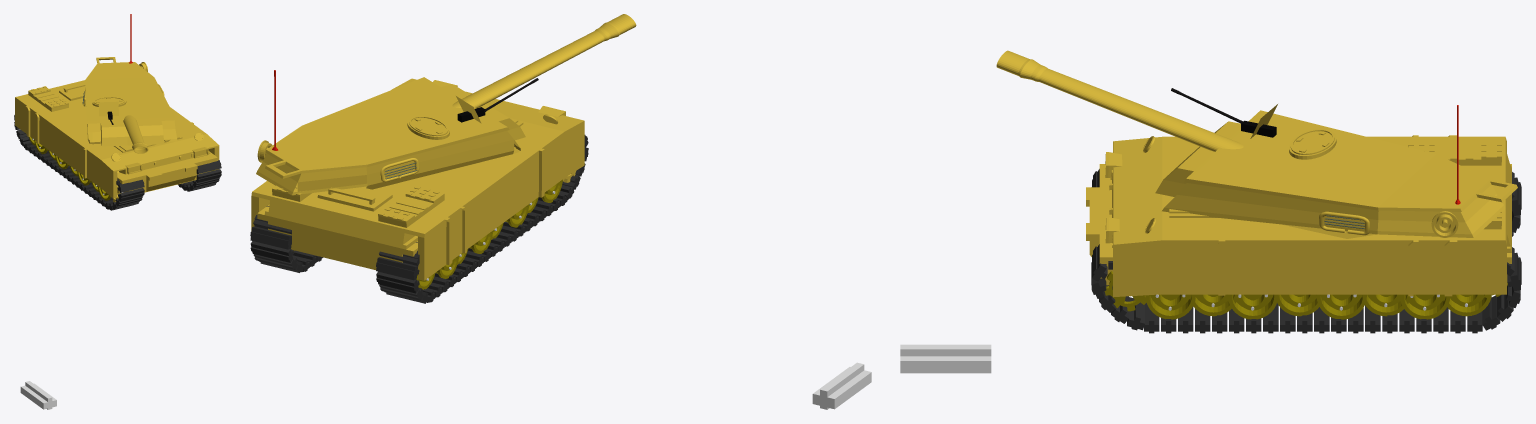
The model's file is mbt_abrams.glb.
3 views of the same model, side by side, from view 1: azimuth 30°, elevation 25°; view 2: azimuth 150°, elevation 25°; view 3: azimuth 270°, elevation 25° (orthographic). The views are drawn at different scales.
Parts seen in each view (by area): view 1: Cube, Cube.001, Cube.002, Cube.006, Cube.007, Cube.003, Circle.020, Plane.002, Cylinder; view 2: Cube, Cube.001, Circle.020, Cube.002, Cube.010, Cube.005, Cube.003, Cylinder; view 3: Cube, Cube.001, Cube.009, Circle.020, Cube.003, Cube.007, Cube.005, Cylinder, Circle.014, Circle.016, Circle.015, Circle.019 (+5 smaller).
Boxes of the visible parts, x1,y1,x2,y2 form: Cube: (15, 80, 219, 198); Cube.001: (85, 57, 177, 146); Cube.002: (24, 142, 113, 209); Cube.006: (108, 179, 144, 210); Cube.007: (185, 160, 221, 191); Cube.003: (20, 381, 56, 409); Circle.020: (123, 115, 148, 153); Plane.002: (98, 101, 118, 116); Cylinder: (92, 97, 126, 106); Cube: (251, 78, 584, 280); Cube.001: (256, 77, 525, 195); Circle.020: (452, 14, 636, 108); Cube.002: (423, 193, 567, 302); Cube.010: (376, 242, 429, 303); Cube.005: (250, 206, 303, 272); Cube.003: (812, 362, 871, 409); Cylinder: (407, 116, 449, 139); Cube: (1086, 135, 1511, 297); Cube.001: (1155, 110, 1517, 238); Cube.009: (1144, 303, 1482, 333); Circle.020: (996, 50, 1243, 151); Cube.003: (900, 344, 991, 373); Cube.007: (1091, 244, 1144, 330); Cube.005: (1482, 247, 1521, 330); Cylinder: (1289, 129, 1336, 159); Circle.014: (1145, 294, 1195, 319); Circle.016: (1316, 294, 1366, 319); Circle.015: (1227, 294, 1278, 319); Circle.019: (1400, 294, 1450, 319).
Size of the model in its own units: 4.58 by 4.42 by 5.19.
